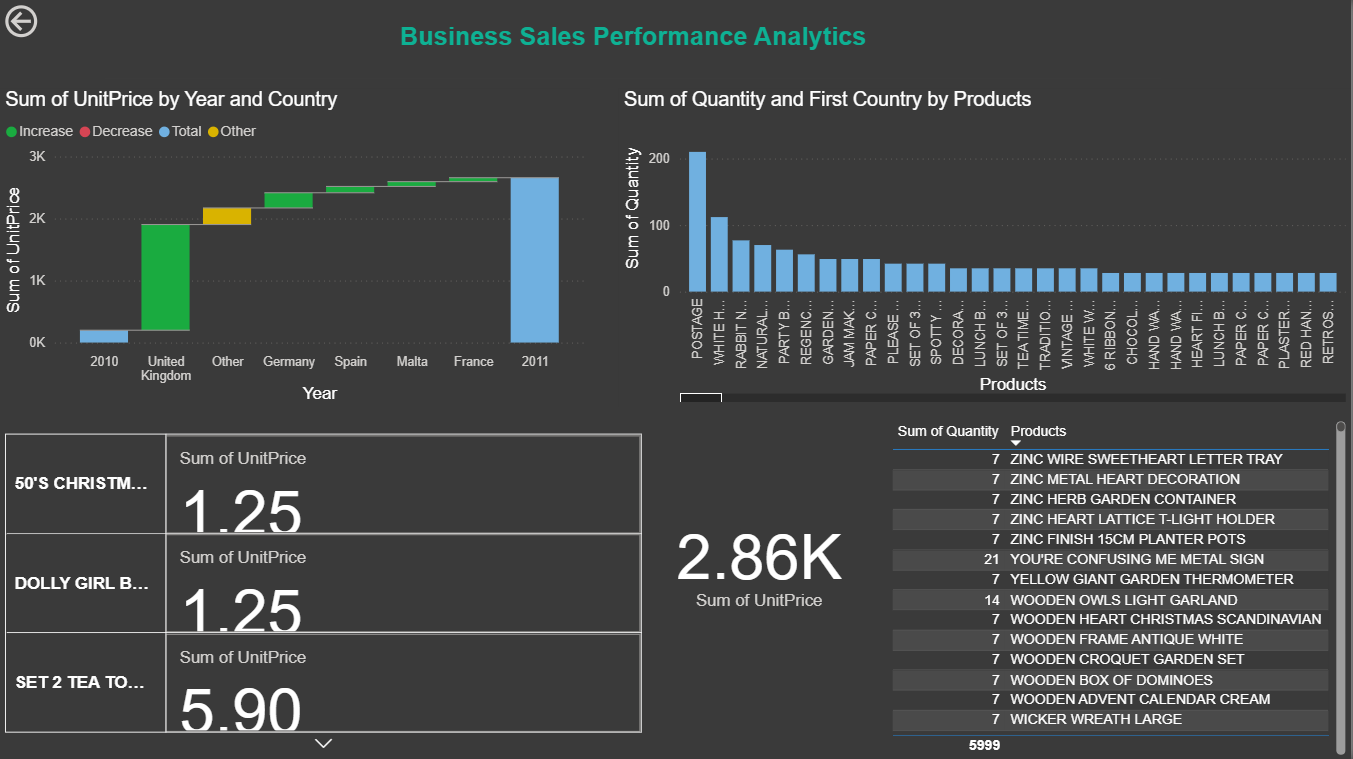

This screenshot's page, from the dashboard's own definition file:
{"tool":"powerbi","page":{"name":"Page 1","canvas":[1280,720],"ordinal":0},"visuals":[{"type":"cardVisual","fields":{"Rows":["online_retail.Products"],"Data":["Sum(online_retail.UnitPrice)"]},"box":[0,386.1,613.5,334],"z":0},{"type":"actionButton","box":[0,0,99.5,40.3],"z":1000},{"type":"columnChart","fields":{"Category":["online_retail.Products"],"Y":["Sum(online_retail.Quantity)"]},"box":[586.2,84.1,694,302],"z":2000},{"type":"waterfallChart","fields":{"Category":["online_retail.InvoiceDate.Variation.Date Hierarchy.Year","online_retail.InvoiceDate.Variation.Date Hierarchy.Quarter","online_retail.InvoiceDate.Variation.Date Hierarchy.Month","online_retail.InvoiceDate.Variation.Date Hierarchy.Day","online_retail.Country"],"Y":["Sum(online_retail.UnitPrice)"],"Breakdown":["online_retail.Country"]},"box":[0,84.1,559,302],"z":3000},{"type":"card","fields":{"Values":["Sum(online_retail.UnitPrice)"]},"box":[626.5,412.1,185.9,239.2],"z":4000},{"type":"tableEx","fields":{"Values":["Sum(online_retail.Quantity)","online_retail.Products"]},"box":[839.7,394.4,440.6,325.7],"z":5000},{"type":"textbox","box":[99.5,0,1000.7,74.6],"z":5001}]}

Visuals, with their boxes in screenshot pixels (x1, y1, x2, y2), scaled from the page's 1280x720 canvas onto the 1353x759 screenshot:
cardVisual - online_retail.Products x Sum(online_retail.UnitPrice): <region>0, 407, 648, 758</region>
actionButton: <region>0, 0, 105, 42</region>
columnChart - online_retail.Products x Sum(online_retail.Quantity): <region>620, 89, 1352, 407</region>
waterfallChart - online_retail.InvoiceDate.Variation.Date Hierarchy.Year x online_retail.InvoiceDate.Variation.Date Hierarchy.Quarter: <region>0, 89, 591, 407</region>
card - Sum(online_retail.UnitPrice): <region>662, 434, 859, 687</region>
tableEx - Sum(online_retail.Quantity) x online_retail.Products: <region>888, 416, 1352, 758</region>
textbox: <region>105, 0, 1163, 79</region>
